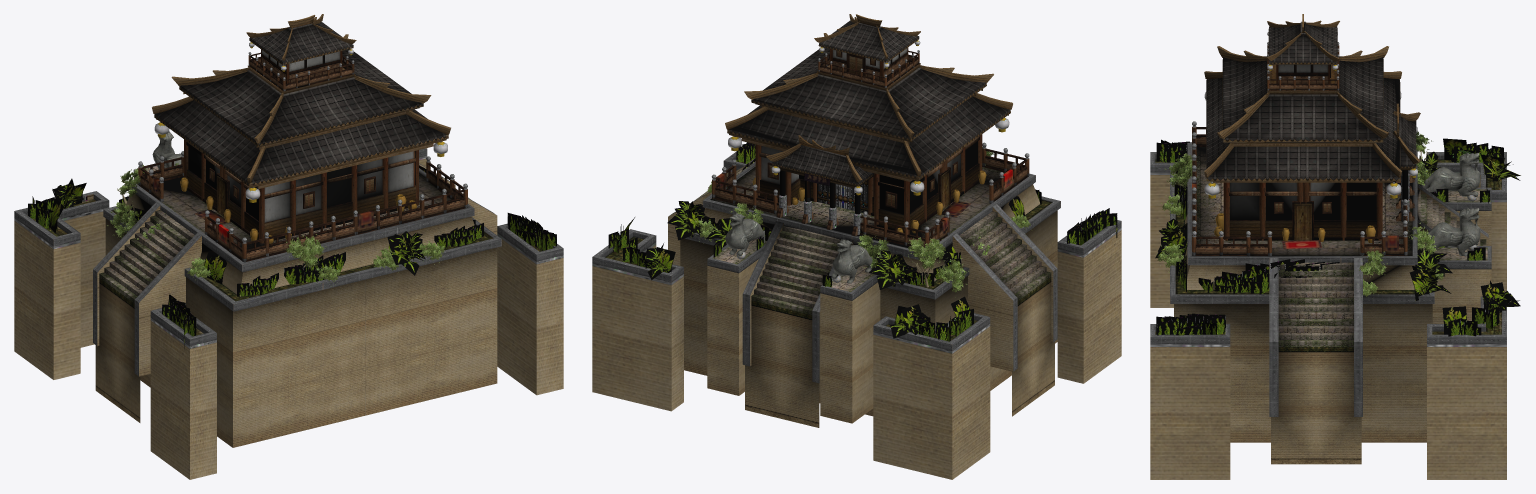
File: han_town_center.glb
3 renders of one model, left to right at view 1: azimuth 30°, elevation 25°; view 2: azimuth 150°, elevation 25°; view 3: azimuth 270°, elevation 25°, orthographic. The views are drawn at different scales.
Visible parts, largest first — view 1: han_town_center_part0, han_town_center_part3, han_town_center_part1, han_town_center_part4; view 2: han_town_center_part0, han_town_center_part3, han_town_center_part1, han_town_center_part4; view 3: han_town_center_part0, han_town_center_part3, han_town_center_part4, han_town_center_part1.
Boxes of the visible parts, x1=… form: han_town_center_part0: x1=14, y1=14, x2=563, y2=479; han_town_center_part3: x1=28, y1=165, x2=556, y2=348; han_town_center_part1: x1=107, y1=163, x2=444, y2=286; han_town_center_part4: x1=152, y1=131, x2=181, y2=169; han_town_center_part0: x1=592, y1=14, x2=1121, y2=479; han_town_center_part3: x1=608, y1=142, x2=1117, y2=341; han_town_center_part1: x1=695, y1=147, x2=1030, y2=297; han_town_center_part4: x1=725, y1=213, x2=872, y2=283; han_town_center_part0: x1=1150, y1=14, x2=1506, y2=479; han_town_center_part3: x1=1155, y1=138, x2=1520, y2=336; han_town_center_part4: x1=1421, y1=152, x2=1480, y2=256; han_town_center_part1: x1=1156, y1=131, x2=1444, y2=296.
Bounding box in the file's own units: 6.2 × 5.71 × 5.24.
Materials: 5 (5 with a texture image).
